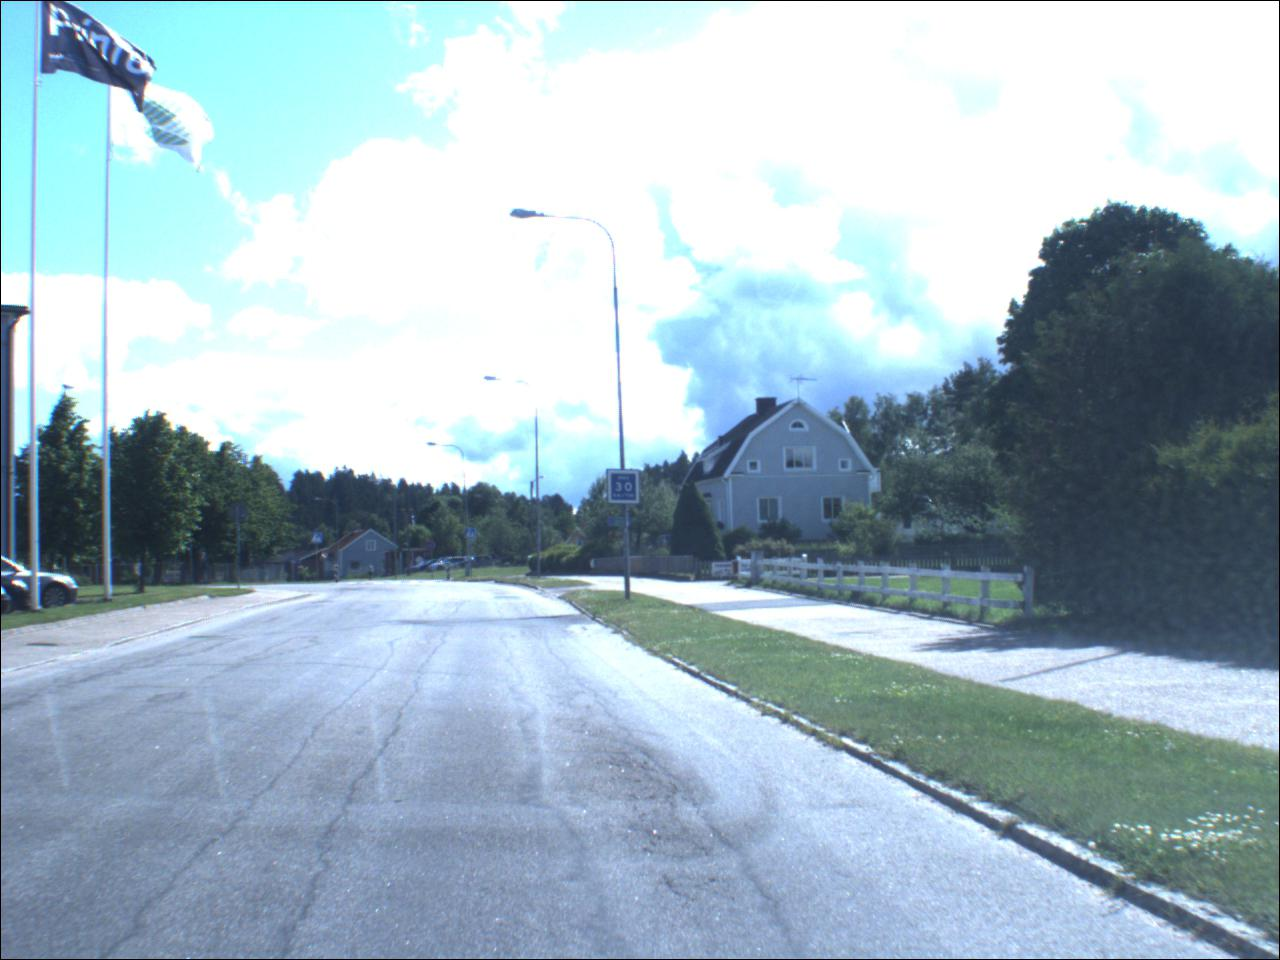NO_STOPPING_NO_STANDING: (428, 542, 438, 554)
PEDESTRIAN_CROSSING: (313, 533, 325, 546), (468, 530, 479, 542)
